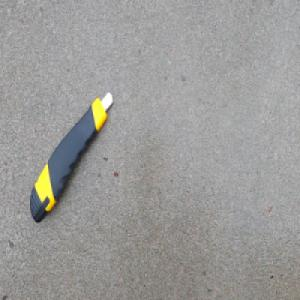Cutter: (29, 90, 113, 224)
